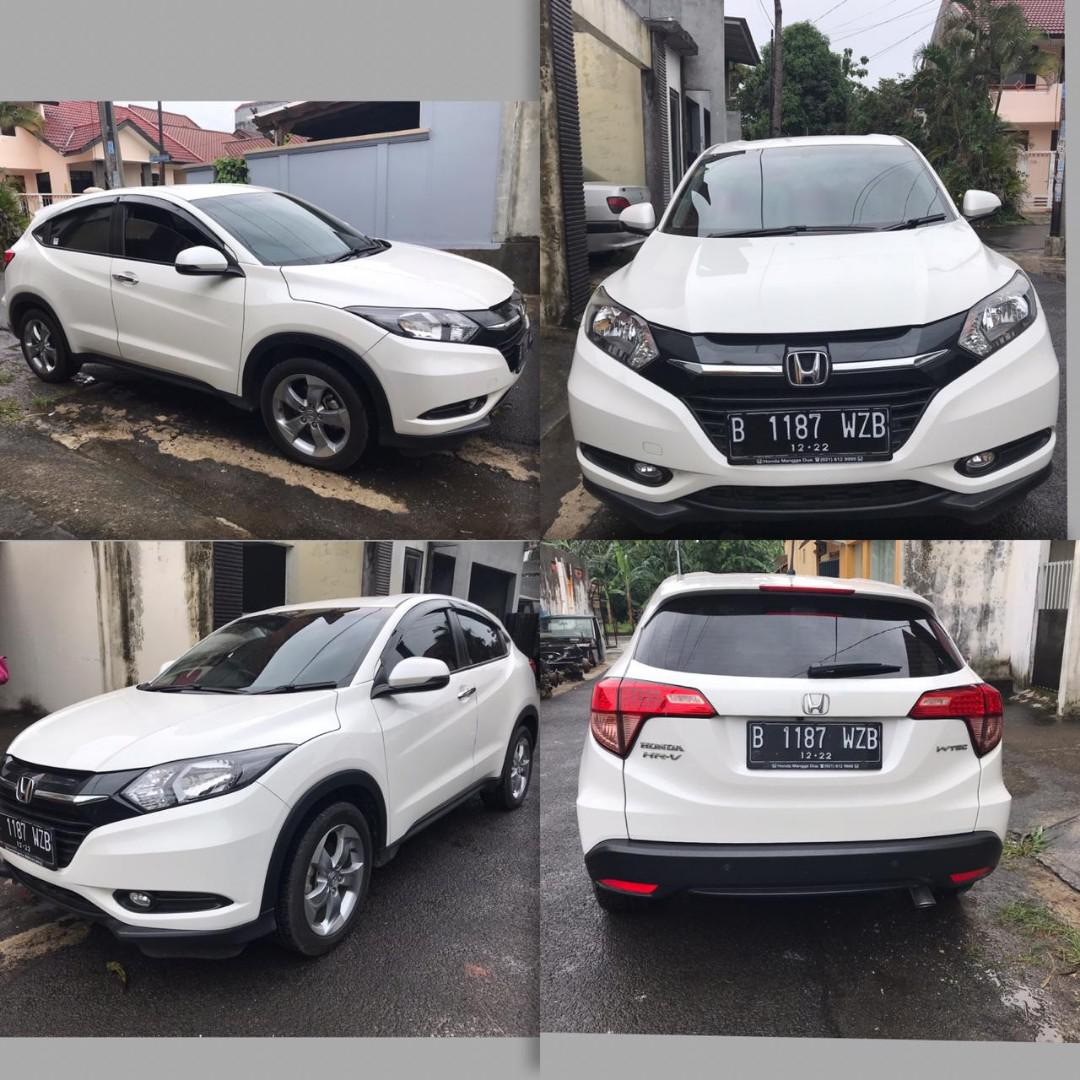plate: (725, 406, 893, 456), (747, 721, 882, 762)
